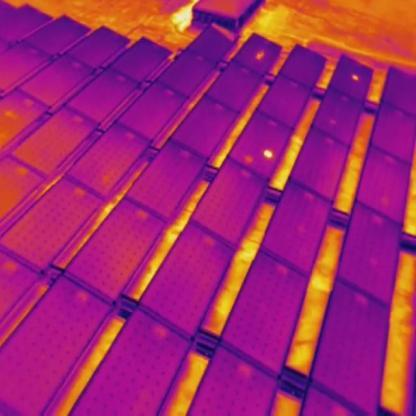anomaly: (259, 146, 276, 160), (349, 71, 362, 85), (253, 48, 265, 62)
